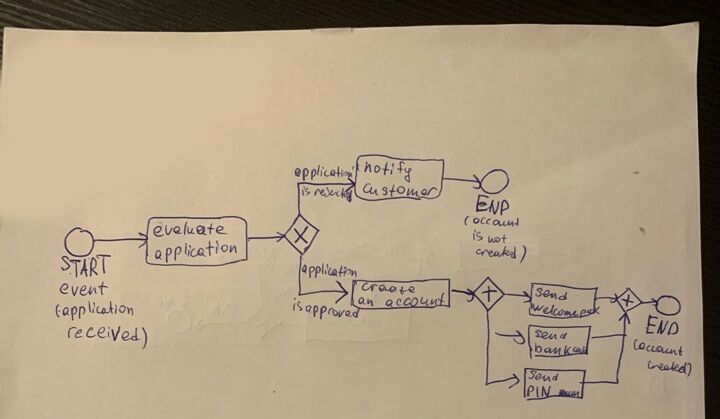(account: (626, 338, 689, 359), (466, 215, 524, 230)
(application: (51, 302, 146, 320)
END: (646, 315, 681, 337)
ENP: (478, 195, 509, 216)
PIN: (526, 385, 556, 399)
START: (58, 254, 111, 275)
account: (386, 295, 446, 308)
an: (357, 295, 378, 307)
application: (152, 239, 239, 264), (292, 163, 356, 182), (300, 260, 360, 280)
approved: (302, 301, 366, 322)
bankacc.: (528, 340, 591, 357)
create: (360, 281, 416, 297)
created): (644, 359, 701, 381), (473, 245, 533, 262)
customer: (361, 183, 437, 200)
evaluate: (153, 221, 228, 239)
event: (58, 282, 108, 298)
is: (288, 298, 302, 315), (469, 229, 486, 243), (297, 185, 311, 199)
not: (487, 230, 507, 245)
notify: (362, 162, 413, 178)
received): (63, 325, 157, 354)
rejected: (312, 185, 365, 205)
send: (535, 286, 569, 303), (528, 370, 559, 384), (534, 330, 569, 342)
welcomepack: (529, 301, 604, 317)
